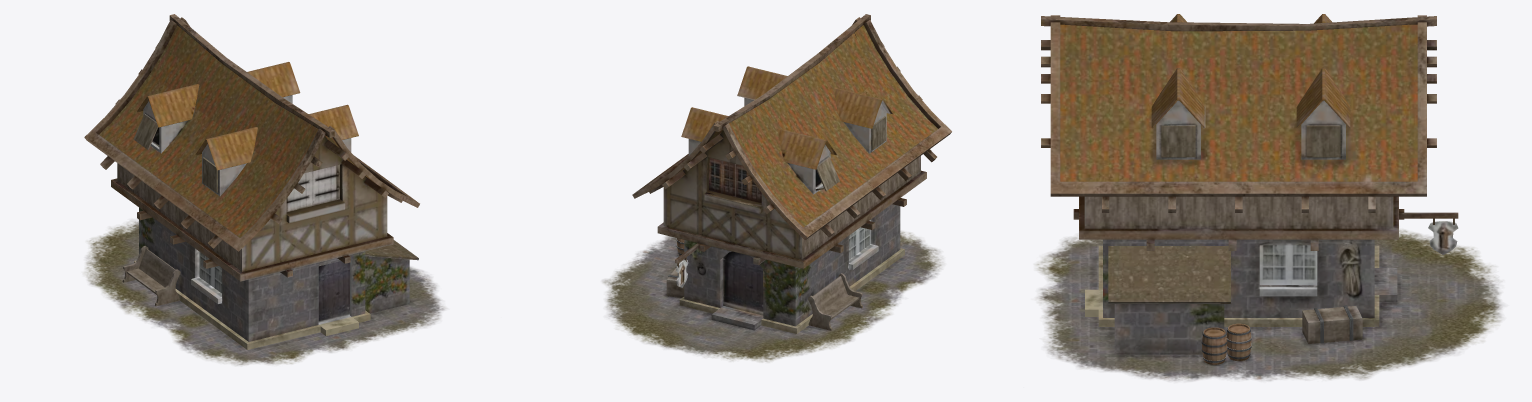
Rendered from tavern.glb.
The picture shows the model from 3 angles, left to right: view 1: azimuth 30°, elevation 25°; view 2: azimuth 150°, elevation 25°; view 3: azimuth 270°, elevation 25°; orthographic projection. The views are drawn at different scales.
Visible parts, largest first — view 1: tavern; view 2: tavern; view 3: tavern.
Boxes of the visible parts, x1,y1,x2,y2 form: tavern: (84,14,445,365); tavern: (602,14,951,361); tavern: (1036,14,1502,381).
Bounding box in the file's own units: 10.64 × 7.81 × 12.81.
1 material, 1 textured.
